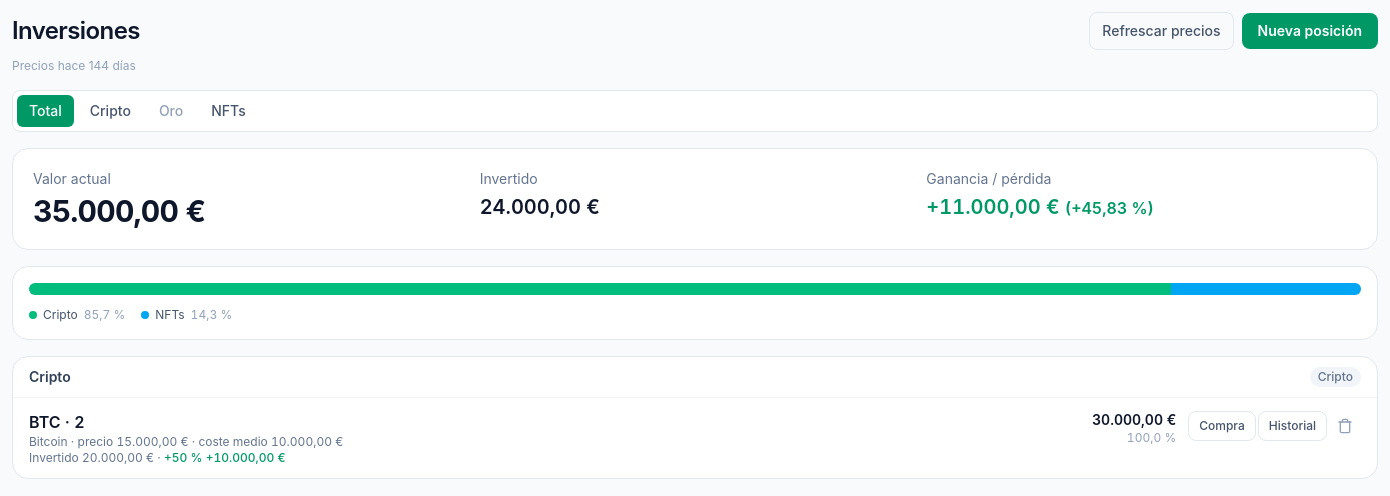
it: InvestmentsPage › shows the NFT currentPurchaseValue in the NFTs tab
The image size is (1390, 496).
Click the tab "NFTs" at x=228, y=111, box [199, 95, 258, 127]
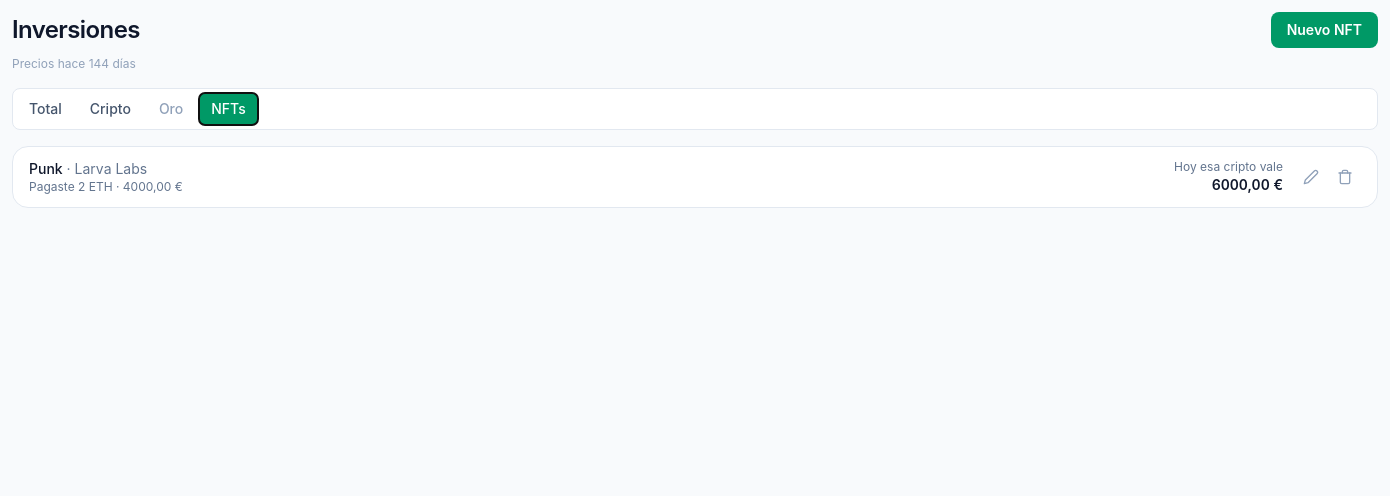
expect the text "Punk" is shown: met, box [29, 160, 63, 177]
